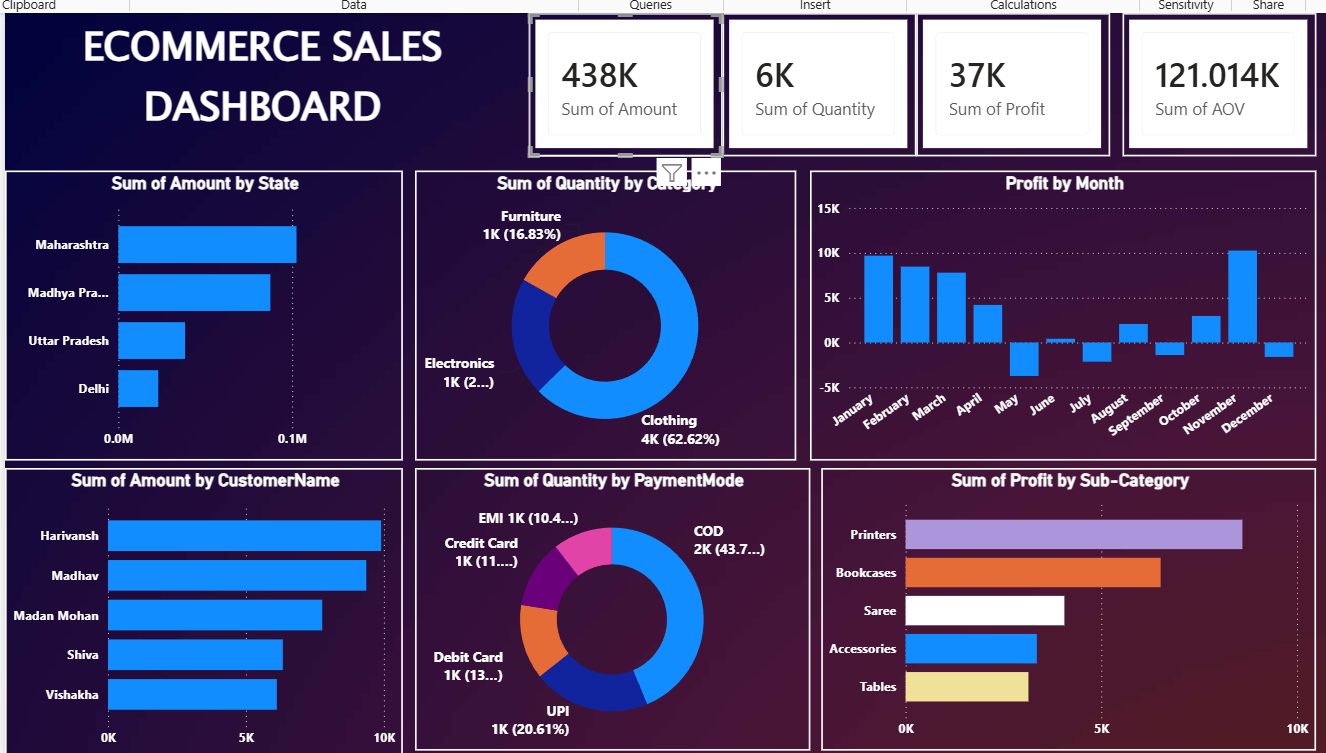

What the dashboard file says about the page in this screenshot:
{"tool":"powerbi","page":{"name":"Page 1","canvas":[1280,720],"ordinal":0},"visuals":[{"type":"textbox","box":[0,0,497.1,138.7],"z":0},{"type":"columnChart","title":"Profit by Month","fields":{"Category":["Orders (1).Order Date.Variation.Date Hierarchy.Month"],"Y":["Sum(Details.Profit)"]},"box":[776.9,152,488.6,279.9],"z":1000},{"type":"barChart","fields":{"Y":["Sum(Details.Profit)"],"Category":["Details.Sub-Category"]},"box":[787.8,439.1,477.8,272.7],"z":2000},{"type":"donutChart","fields":{"Category":["Details.Category"],"Y":["Sum(Details.Quantity)"]},"box":[395.7,152,368,279.9],"z":3000},{"type":"donutChart","fields":{"Y":["Sum(Details.Quantity)"],"Category":["Details.PaymentMode"]},"box":[395.7,439.1,381.2,272.7],"z":4000},{"type":"cardVisual","fields":{"Data":["Sum(Details.AOV)"]},"box":[1078.6,0,187,138.7],"z":4001},{"type":"cardVisual","fields":{"Data":["Sum(Details.Profit)"]},"box":[879.5,0,187,138.7],"z":4002},{"type":"cardVisual","fields":{"Data":["Sum(Details.Quantity)"]},"box":[692.5,0,187,138.7],"z":4004},{"type":"cardVisual","fields":{"Data":["Sum(Details.Amount)"]},"box":[505.5,0,187,138.7],"z":4005},{"type":"barChart","fields":{"Category":["Orders (1).State"],"Y":["Sum(Details.Amount)"]},"box":[0,152,383.6,279.9],"z":4006},{"type":"barChart","fields":{"Category":["Orders (1).CustomerName"],"Y":["Sum(Details.Amount)"]},"box":[0,439.1,384.2,281.3],"z":4007}]}

Visuals, with their boxes in screenshot pixels (x1, y1, x2, y2):
textbox: bbox=(3, 10, 511, 152)
"Profit by Month" columnChart: bbox=(797, 166, 1296, 452)
barChart - Sum(Details.Profit) x Details.Sub-Category: bbox=(808, 459, 1296, 738)
donutChart - Details.Category x Sum(Details.Quantity): bbox=(408, 166, 784, 452)
donutChart - Sum(Details.Quantity) x Details.PaymentMode: bbox=(408, 459, 797, 738)
cardVisual - Sum(Details.AOV): bbox=(1105, 10, 1296, 152)
cardVisual - Sum(Details.Profit): bbox=(902, 10, 1093, 152)
cardVisual - Sum(Details.Quantity): bbox=(711, 10, 902, 152)
cardVisual - Sum(Details.Amount): bbox=(520, 10, 711, 152)
barChart - Orders (1).State x Sum(Details.Amount): bbox=(3, 166, 395, 452)
barChart - Orders (1).CustomerName x Sum(Details.Amount): bbox=(3, 459, 396, 746)
